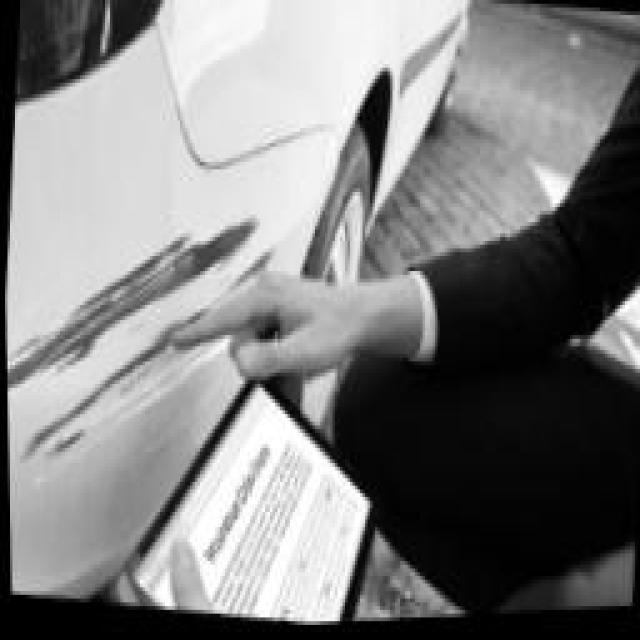Door: (2, 132, 296, 502)
